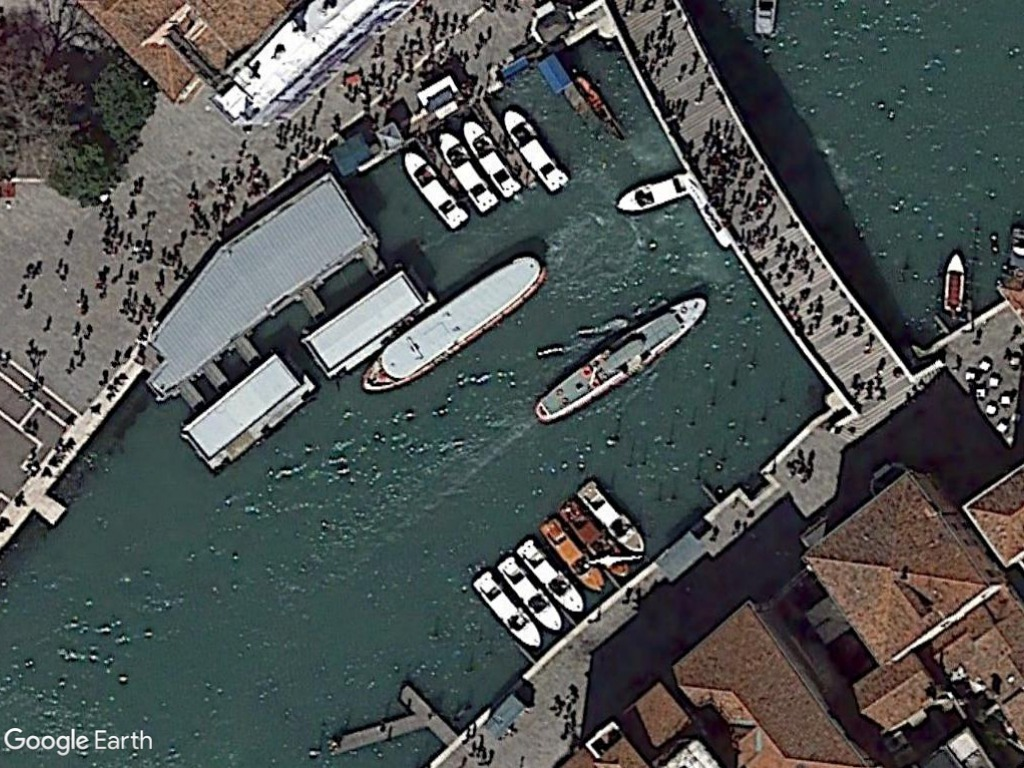boat: (355, 247, 548, 395), (529, 292, 711, 427), (556, 498, 635, 579), (467, 568, 544, 650), (500, 106, 572, 193), (492, 549, 564, 634), (514, 537, 589, 617), (575, 478, 650, 557), (401, 149, 471, 232), (435, 129, 502, 213), (538, 516, 610, 594), (460, 118, 524, 200), (611, 169, 690, 216), (937, 246, 968, 316)
